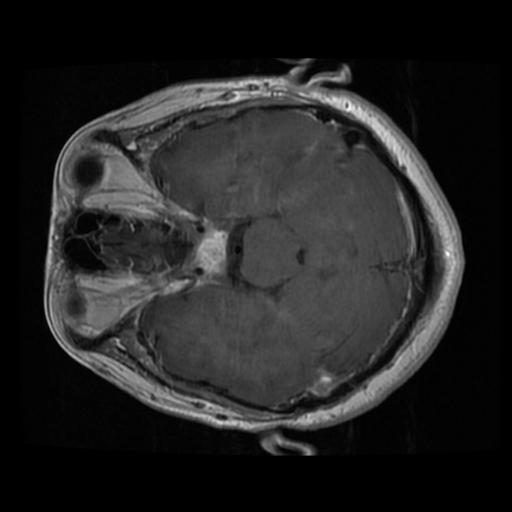pituitary tumour: (193, 229, 227, 274)
